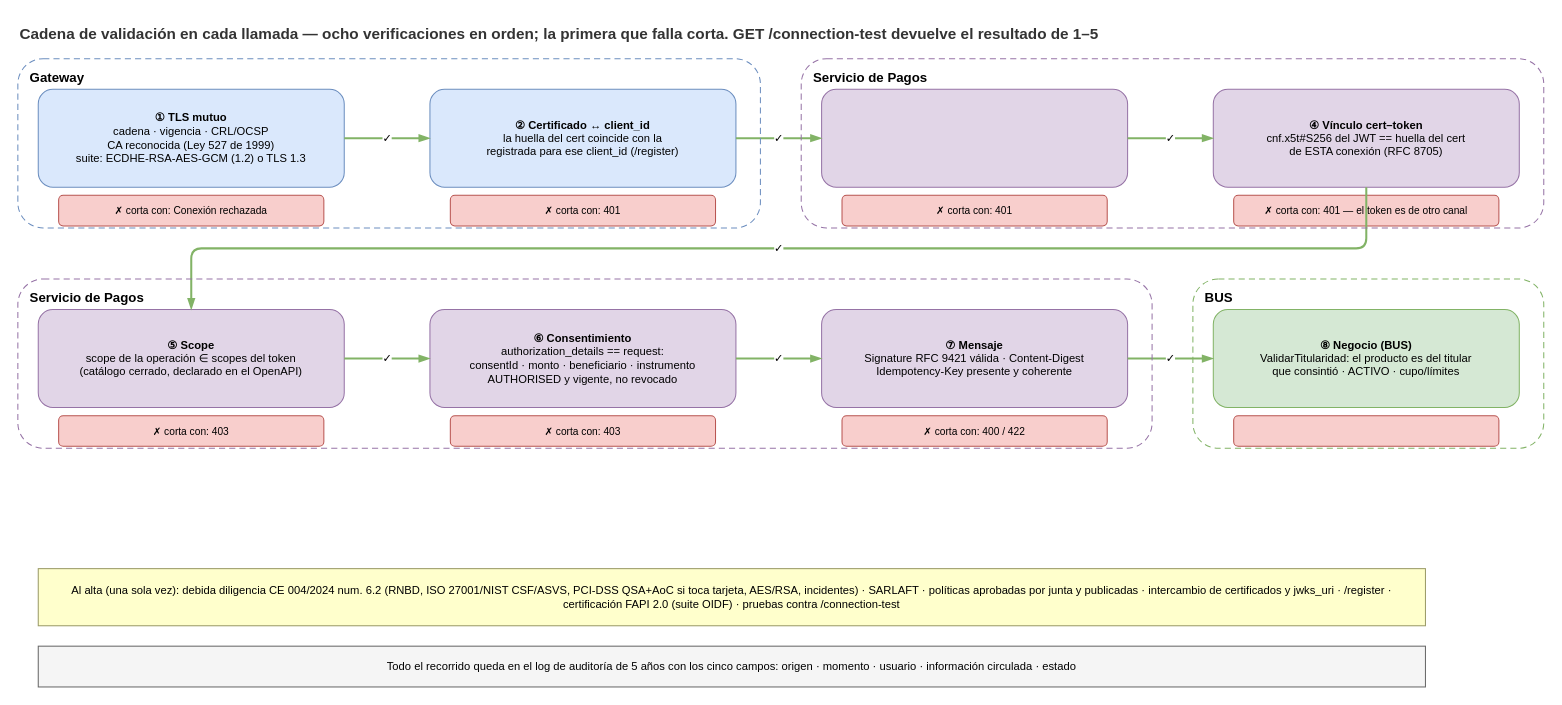
This 1562x705 diagram has some shape labels left out. The shapes that lost their labels are listed below. From the top down, each one's centre as x and y in pixels, then its label:
(x=974, y=137): ③ Token firma PS256+ contra /jwks · iss/aud exactos exp · estado de revocación
(x=1366, y=430): ✗ corta con: REJECTED · PRODUCT_BLOCKED
